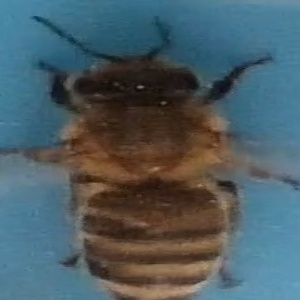bee: (12, 16, 293, 298)
